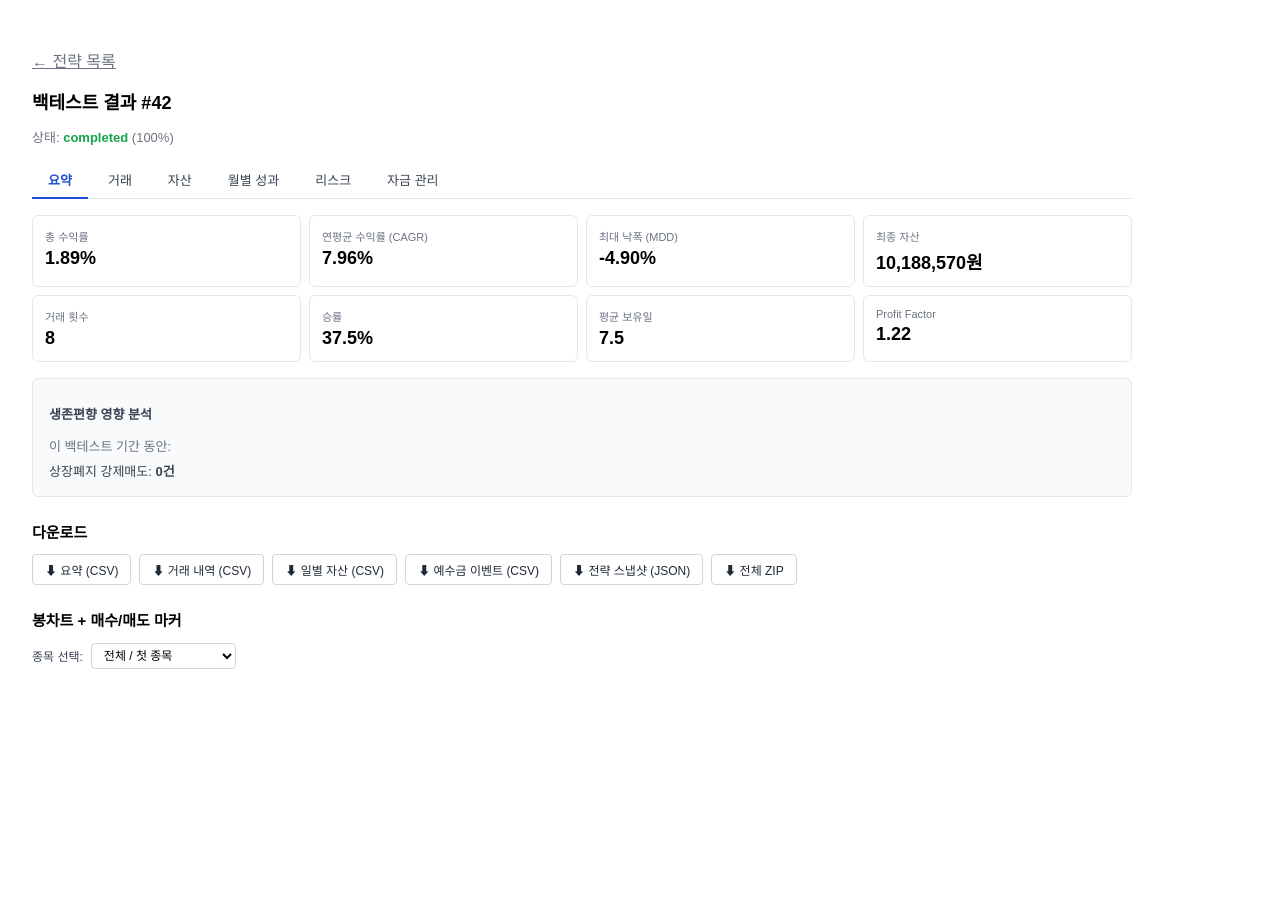
BacktestResultPage › 자금 관리 탭에 CashChart + PositionsCountChart + 통계 카드 표시
Click the tab with test id "tab-cash".
click(413, 180)  # box [371,162,455,199]
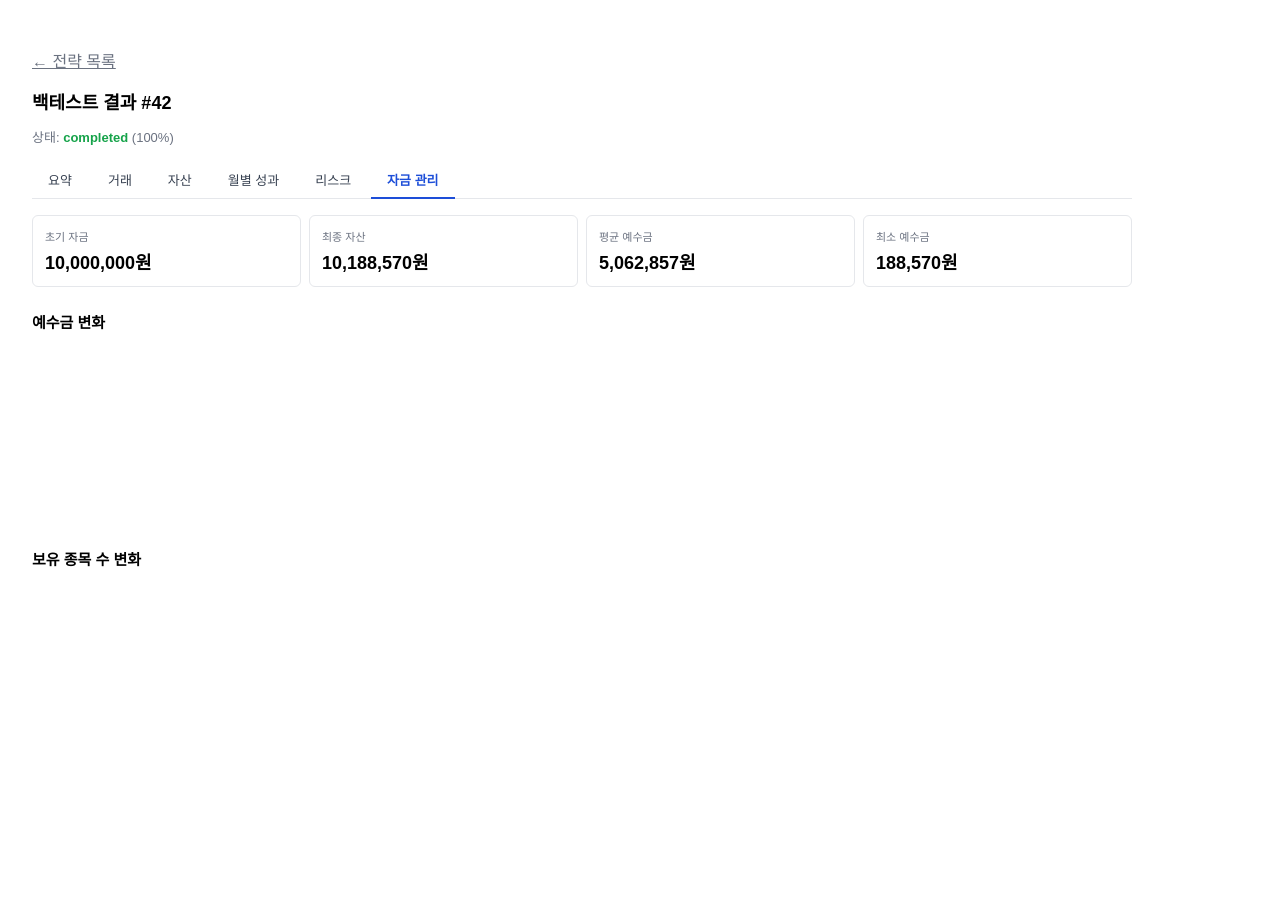
Now the text "초기 자금" is shown, box [45,231,88,243]
Now the text "평균 예수금" is shown, box [599,231,653,243]
Now the text "최소 예수금" is shown, box [876,231,930,243]
